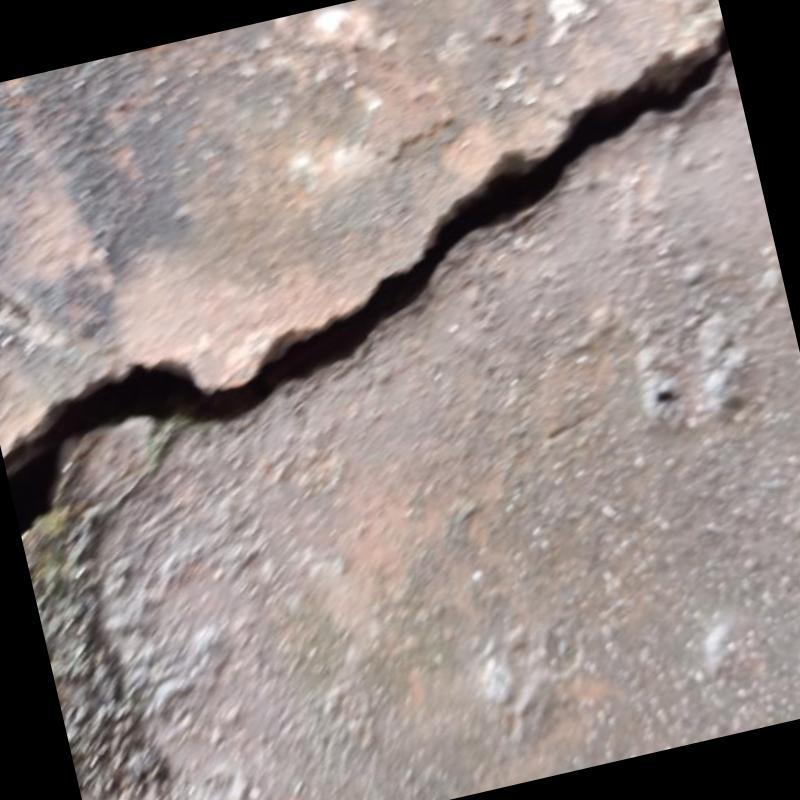crack: (4, 28, 730, 534)
